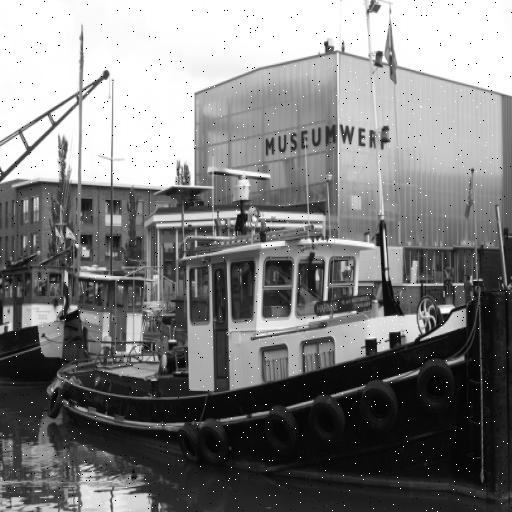tugboat: (42, 164, 512, 512)
